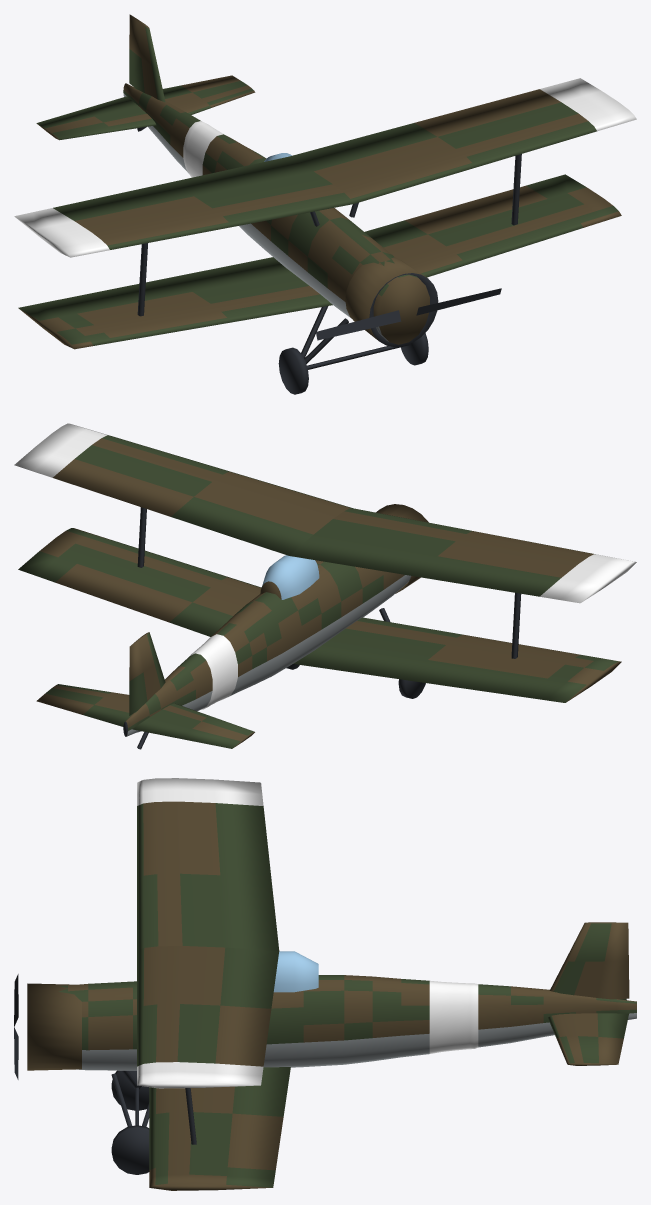
Rendered from gladiator.glb.
3 views of the same model, one above another, from view 1: azimuth 30°, elevation 25°; view 2: azimuth 150°, elevation 25°; view 3: azimuth 270°, elevation 25° (orthographic). The views are drawn at different scales.
Visible parts, largest first — view 1: body, prop; view 2: body; view 3: body.
Boxes of the visible parts, x1,y1,x2,y2 form: body: (14,14,636,394); prop: (316,288,501,340); body: (14,423,636,749); body: (27,778,636,1190).
Bounding box in the file's own units: 9.83 × 3.31 × 8.54.
